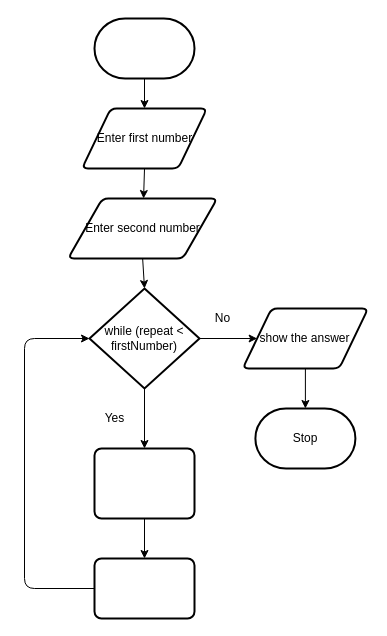
The diagram is 387 pixels wide and 636 high, and some of its shapes have lost their labels. Here are the shapes that lost their labels. From the top down, the centre of each, then its label:
the point at 144,48: Start
the point at 144,483: answer= answer + secondNumber
the point at 144,588: repeat++
